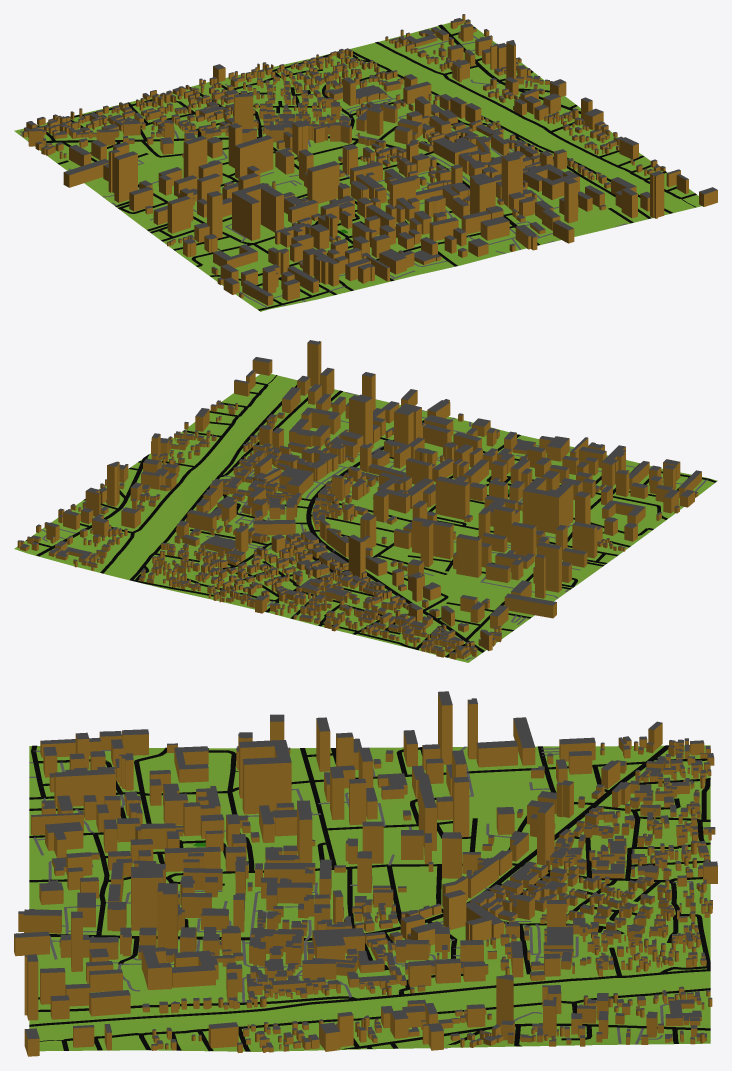
The model's file is tile_06_06.glb.
3 renders of one model, top to bottom at view 1: azimuth 30°, elevation 25°; view 2: azimuth 150°, elevation 25°; view 3: azimuth 270°, elevation 25°, orthographic. The views are drawn at different scales.
Parts seen in each view (by area): view 1: Ub_small.osm_buildings_06_06, Terrain_06_06, Ub_small.osm_roads_residential_06_06, Ub_small.osm_roads_service_06_06; view 2: Ub_small.osm_buildings_06_06, Terrain_06_06, Ub_small.osm_roads_residential_06_06, Ub_small.osm_roads_service_06_06, Ub_small.osm_roads_primary_06_06; view 3: Ub_small.osm_buildings_06_06, Terrain_06_06, Ub_small.osm_roads_residential_06_06, Ub_small.osm_roads_service_06_06, Ub_small.osm_roads_primary_06_06, Ub_small.osm_roads_tertiary_06_06, Ub_small.osm_roads_secondary_06_06.
Boxes of the visible parts, <box> form: Ub_small.osm_buildings_06_06: <box>22,14,717,305</box>; Terrain_06_06: <box>14,18,701,311</box>; Ub_small.osm_roads_residential_06_06: <box>37,27,696,310</box>; Ub_small.osm_roads_service_06_06: <box>20,35,627,307</box>; Ub_small.osm_buildings_06_06: <box>17,340,701,659</box>; Terrain_06_06: <box>14,374,717,662</box>; Ub_small.osm_roads_residential_06_06: <box>26,382,716,657</box>; Ub_small.osm_roads_service_06_06: <box>41,392,707,660</box>; Ub_small.osm_roads_primary_06_06: <box>306,420,484,652</box>; Ub_small.osm_buildings_06_06: <box>14,691,717,1056</box>; Terrain_06_06: <box>29,745,710,1051</box>; Ub_small.osm_roads_residential_06_06: <box>29,745,710,1051</box>; Ub_small.osm_roads_service_06_06: <box>29,746,704,1044</box>; Ub_small.osm_roads_primary_06_06: <box>49,745,668,940</box>; Ub_small.osm_roads_tertiary_06_06: <box>29,748,645,799</box>; Ub_small.osm_roads_secondary_06_06: <box>342,1023,710,1049</box>.
Size of the model in its own units: 1032 by 98.41 by 961.
